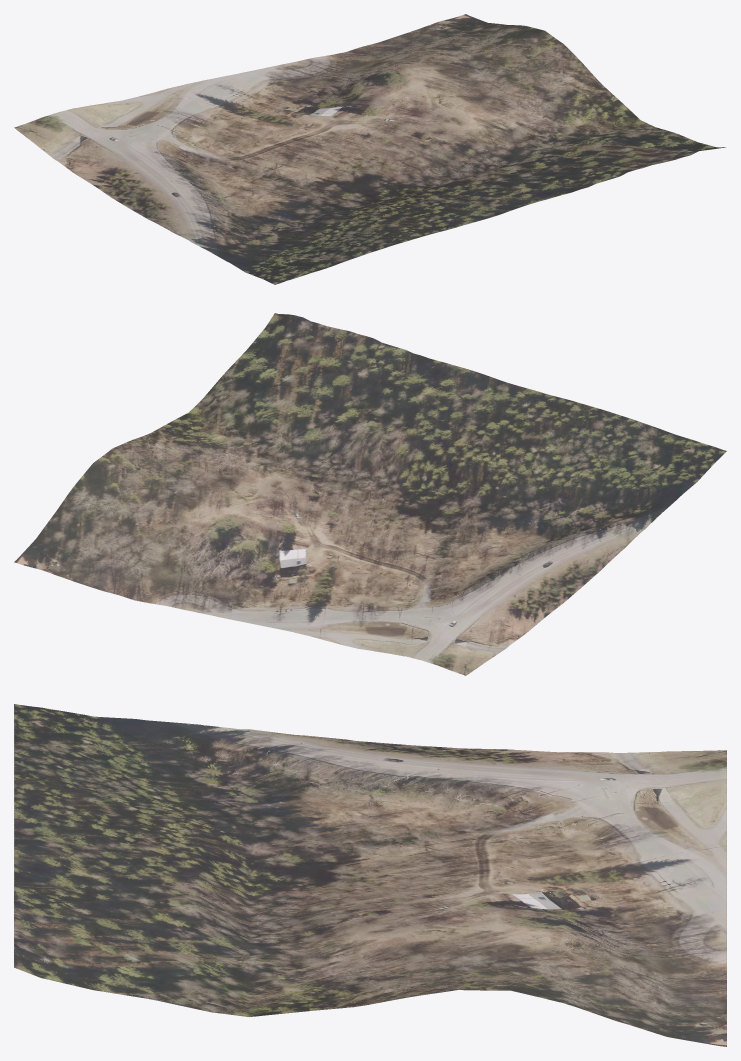
Rendered from CM_Terrain_24492302_6816927.fbx.
3 views of the same model, one above another, from view 1: azimuth 30°, elevation 25°; view 2: azimuth 150°, elevation 25°; view 3: azimuth 270°, elevation 25° (orthographic). The views are drawn at different scales.
Visible parts, largest first — view 1: CM_Terrain_24492302_6816927_LOD0; view 2: CM_Terrain_24492302_6816927_LOD0; view 3: CM_Terrain_24492302_6816927_LOD0.
Boxes of the visible parts, x1=… form: CM_Terrain_24492302_6816927_LOD0: x1=14, y1=14, x2=725, y2=284; CM_Terrain_24492302_6816927_LOD0: x1=14, y1=313, x2=726, y2=675; CM_Terrain_24492302_6816927_LOD0: x1=14, y1=704, x2=726, y2=1046.
Size of what is drawn, in the model's own units: 205 by 30.09 by 205.
